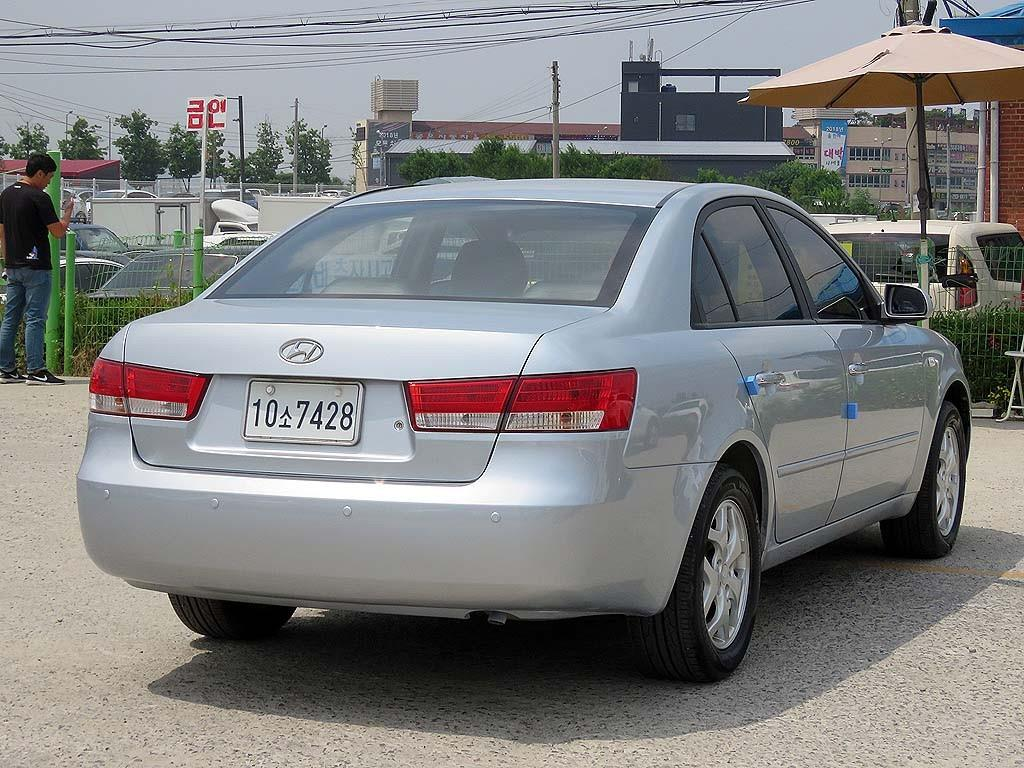plate: (244, 378, 360, 442)
